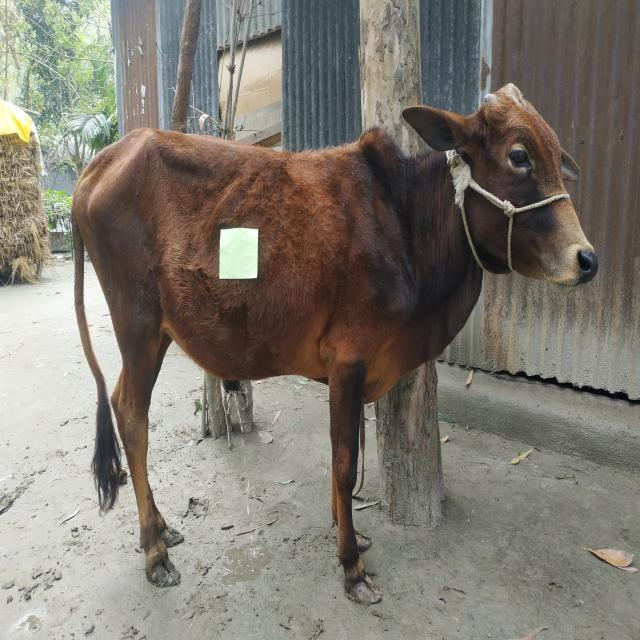badan_sapi: (97, 148, 380, 384)
sapi: (60, 82, 600, 615)
